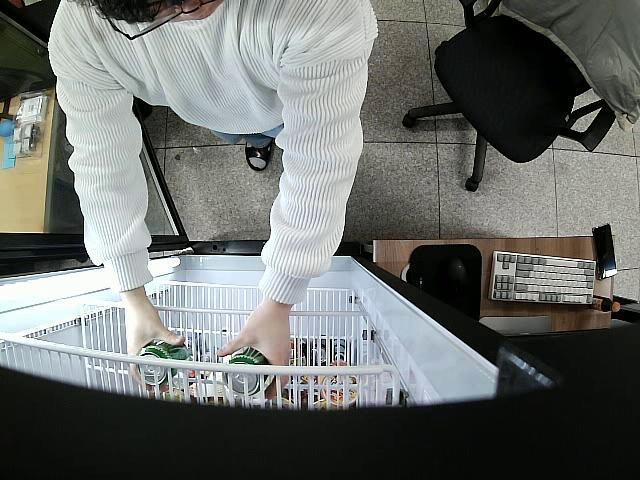12_chilsungCider: (138, 338, 194, 388), (224, 348, 272, 396)
